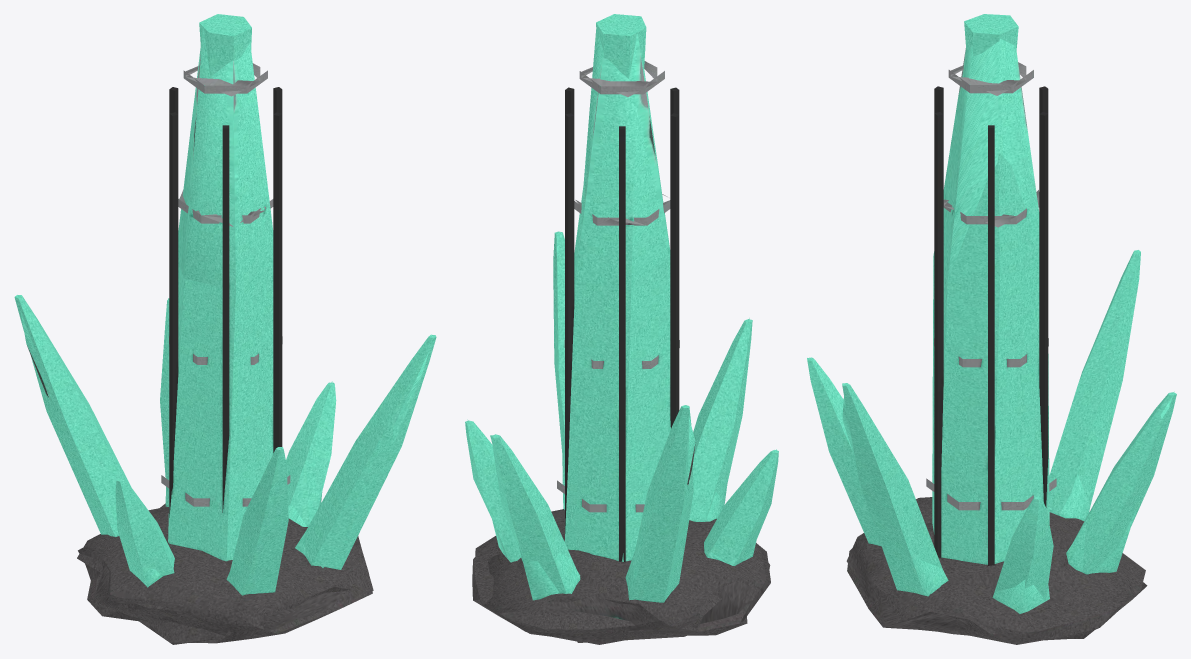
The model's file is sd_prop_monolith_green.glb.
3 renders of one model, left to right at view 1: azimuth 30°, elevation 25°; view 2: azimuth 150°, elevation 25°; view 3: azimuth 270°, elevation 25°, orthographic.
Parts seen in each view (by area): view 1: LOD0_body, LOD1_body; view 2: LOD0_body, LOD1_body; view 3: LOD0_body, LOD1_body.
Part boxes in pixels (x1,y1,x2,y2): LOD0_body: [14, 14, 436, 643]; LOD1_body: [18, 28, 433, 644]; LOD0_body: [465, 14, 778, 644]; LOD1_body: [467, 27, 776, 642]; LOD0_body: [807, 14, 1176, 644]; LOD1_body: [808, 38, 1174, 638].
Bounding box in the file's own units: 0.4976 × 1 × 0.5701.
Materials: 1 (1 with a texture image).
